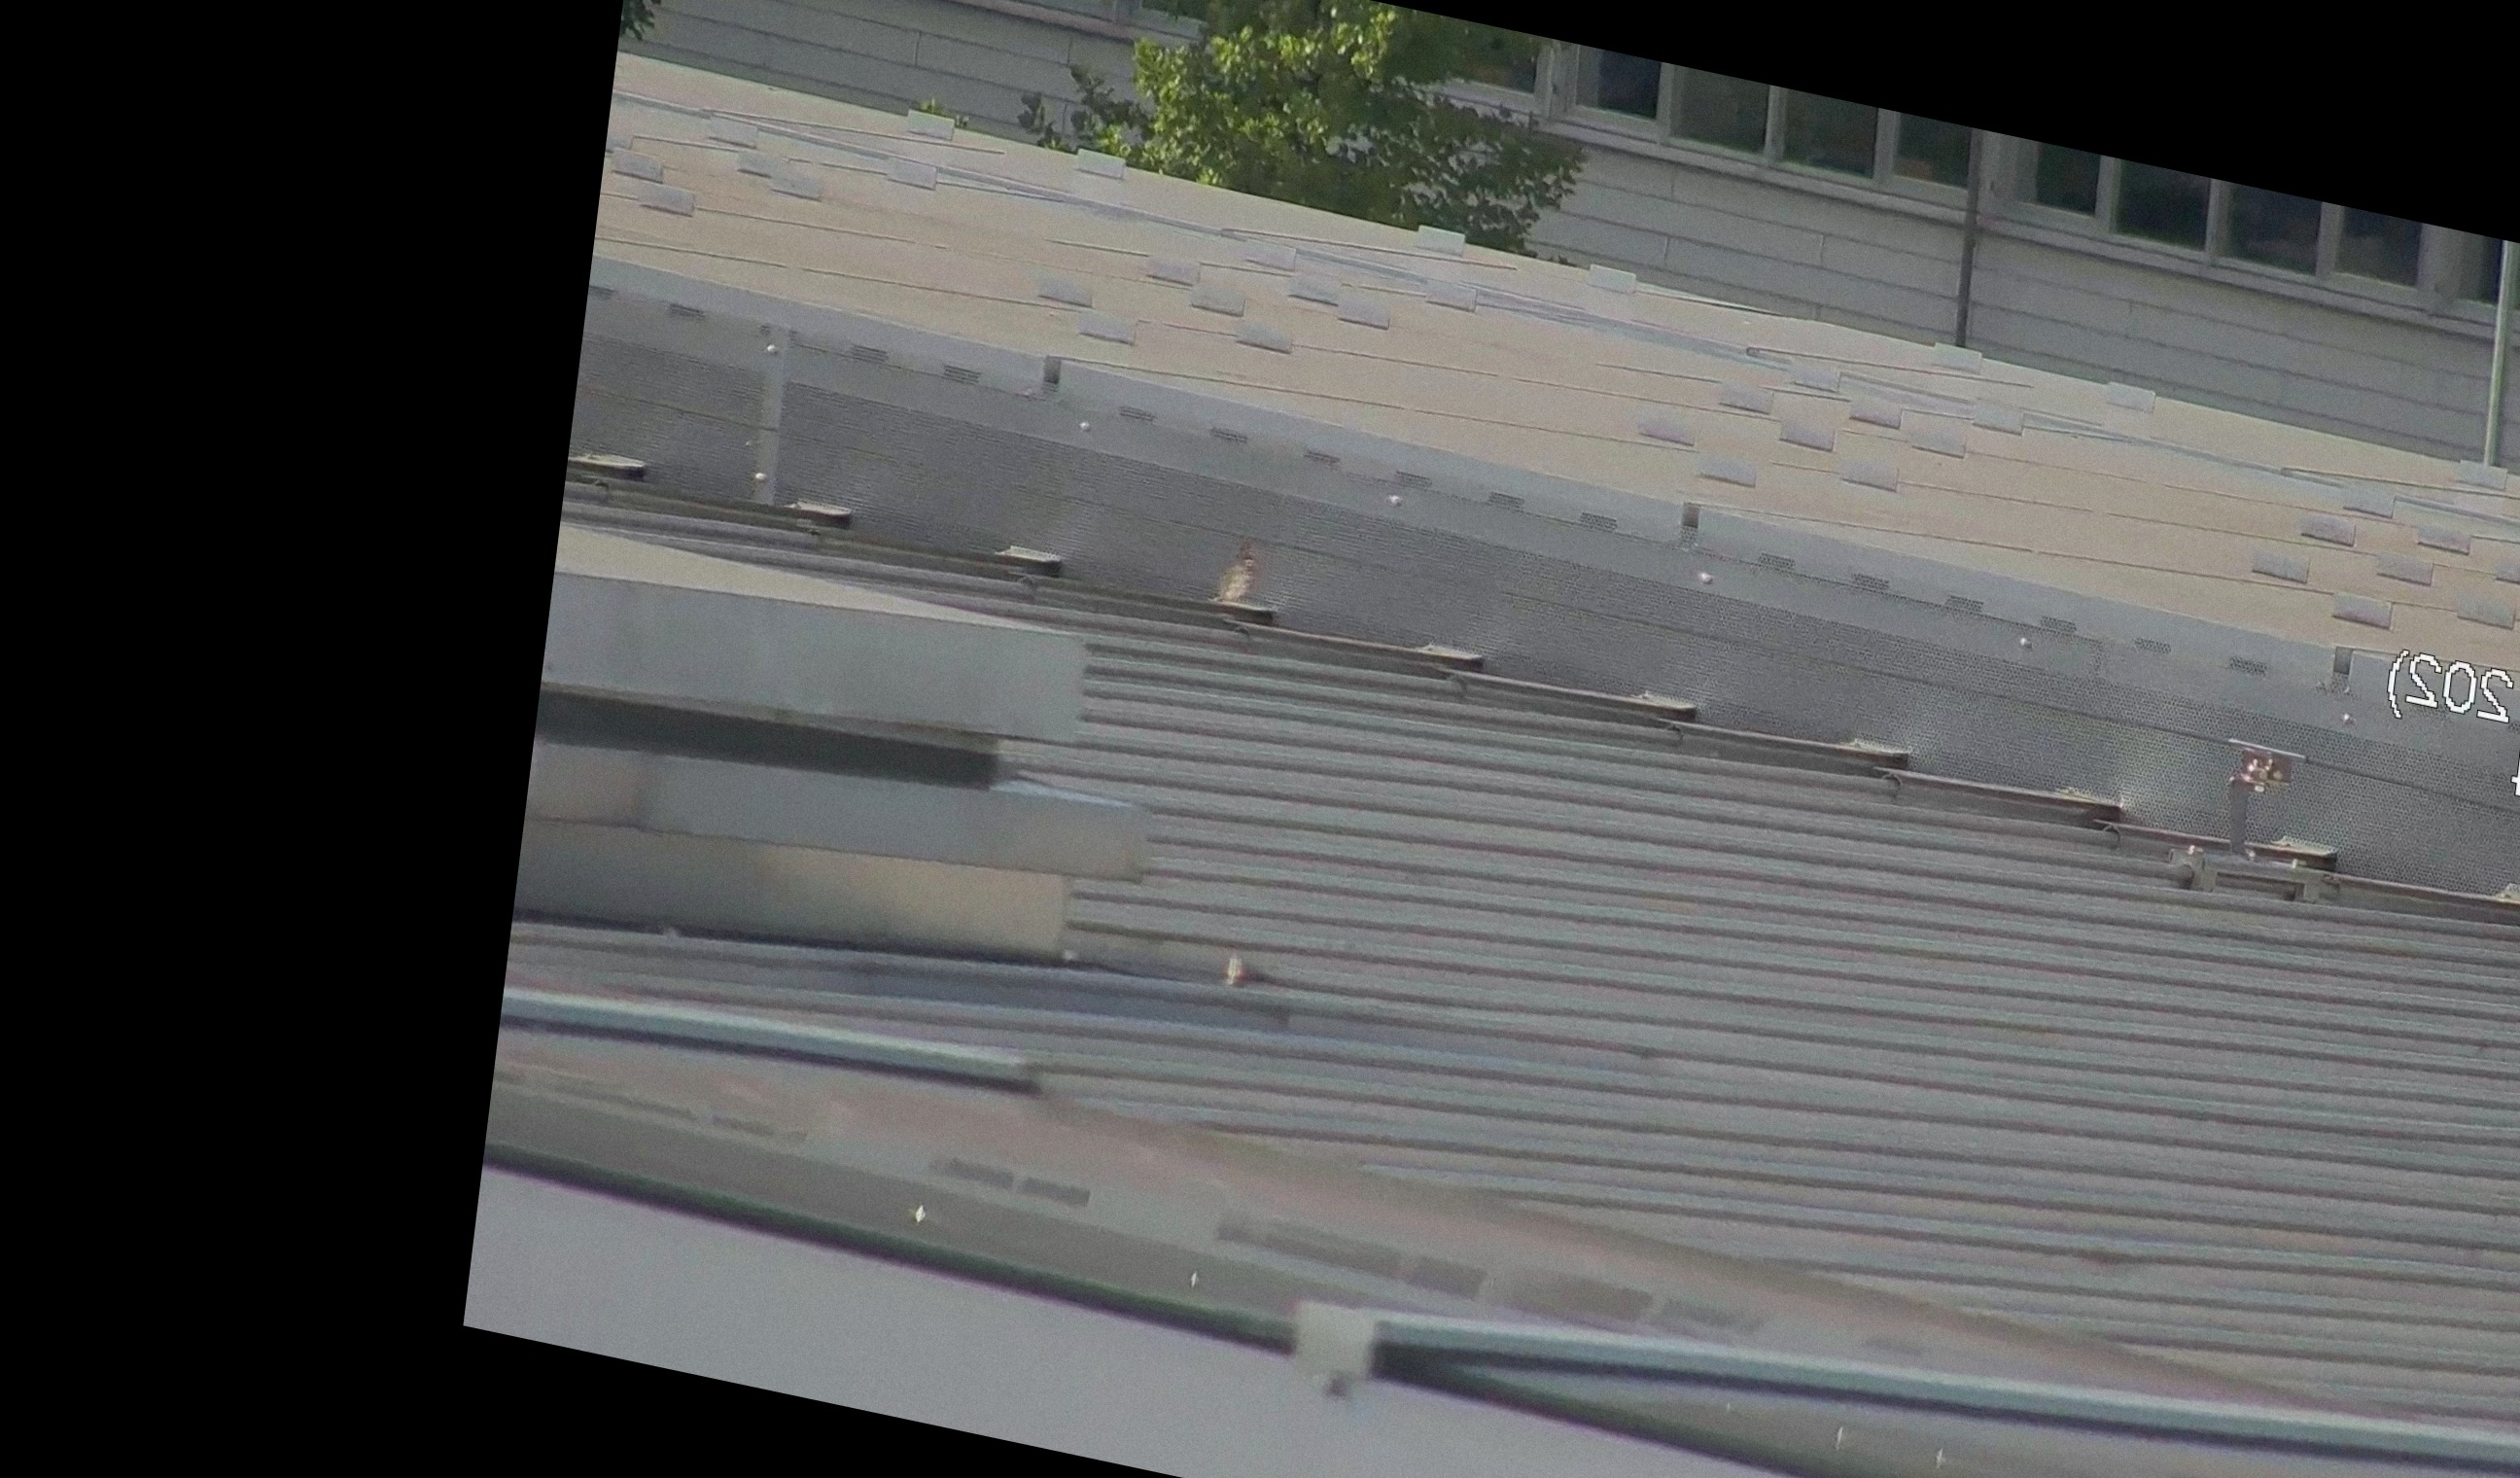Other: (1199, 516, 1284, 630)
